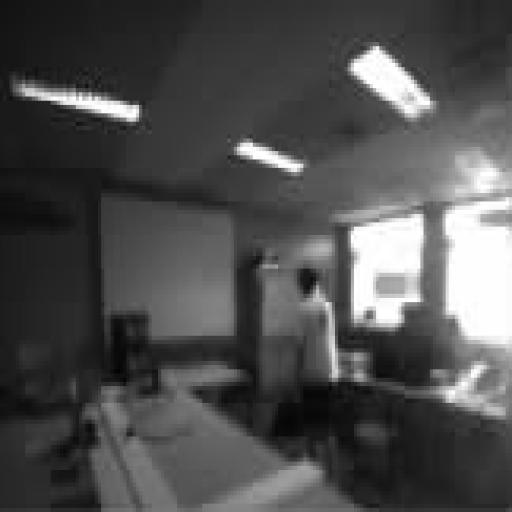human: (298, 269, 341, 440)
